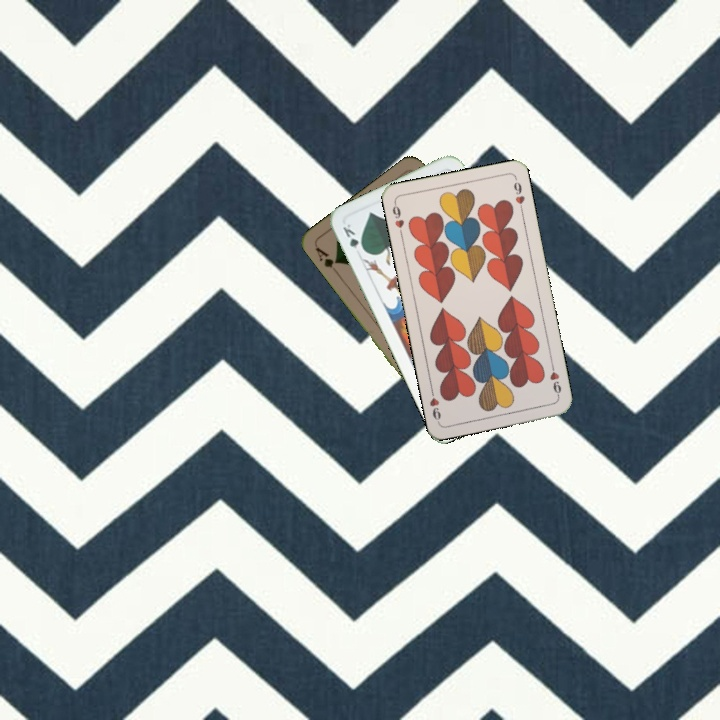GA: (311, 243, 341, 276)
GK: (339, 220, 367, 255)
H9: (388, 198, 407, 239), (546, 360, 564, 400)
